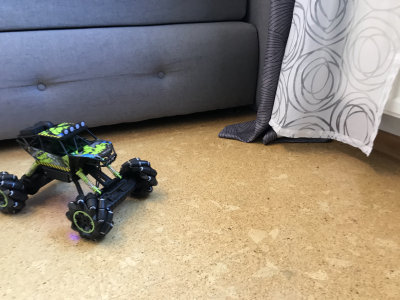remote control car: (1, 115, 162, 244)
